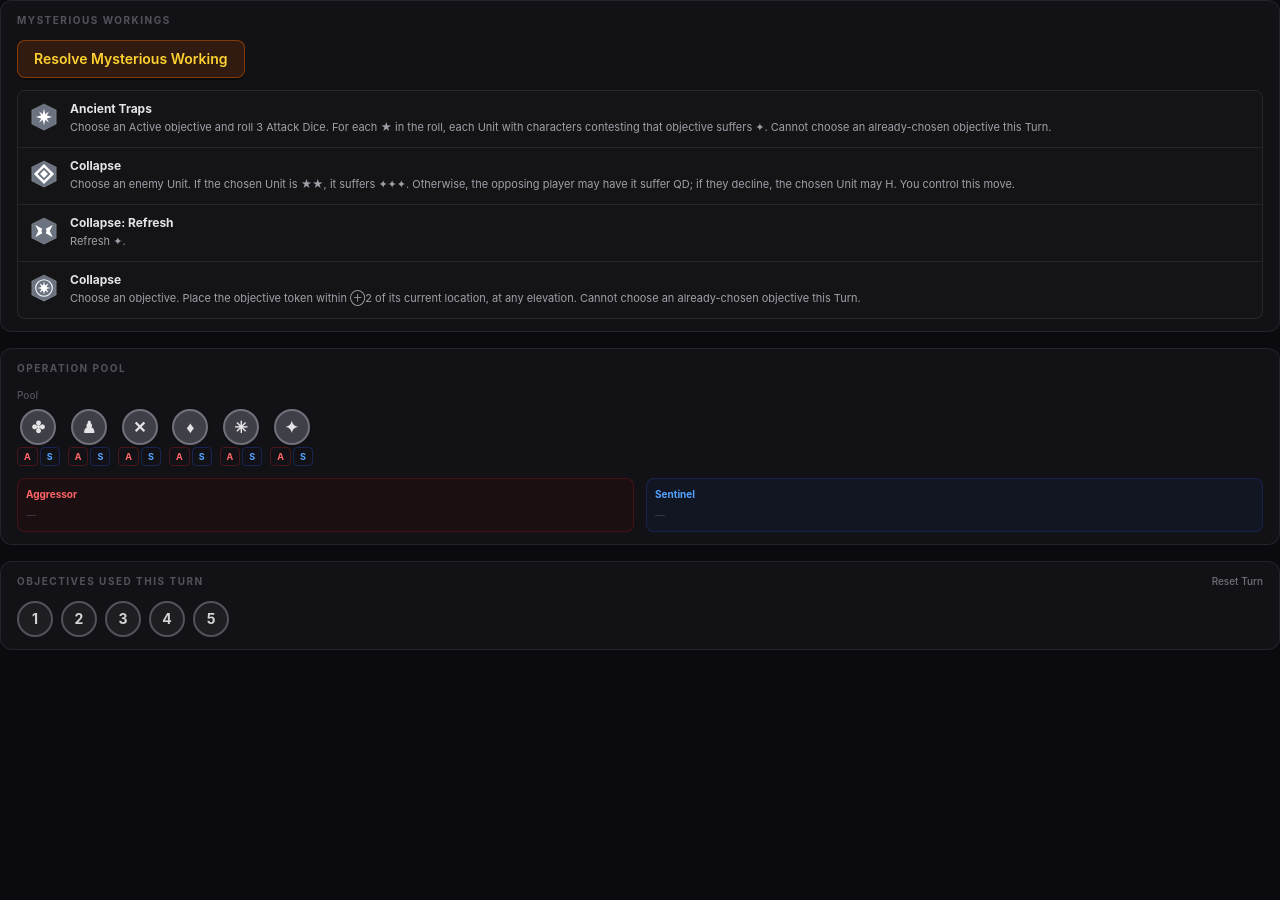
Test: ExploreTheRuins › tapping an objective pill marks it as used
Click the button "1".
click(35, 619)  # box [17, 601, 53, 637]
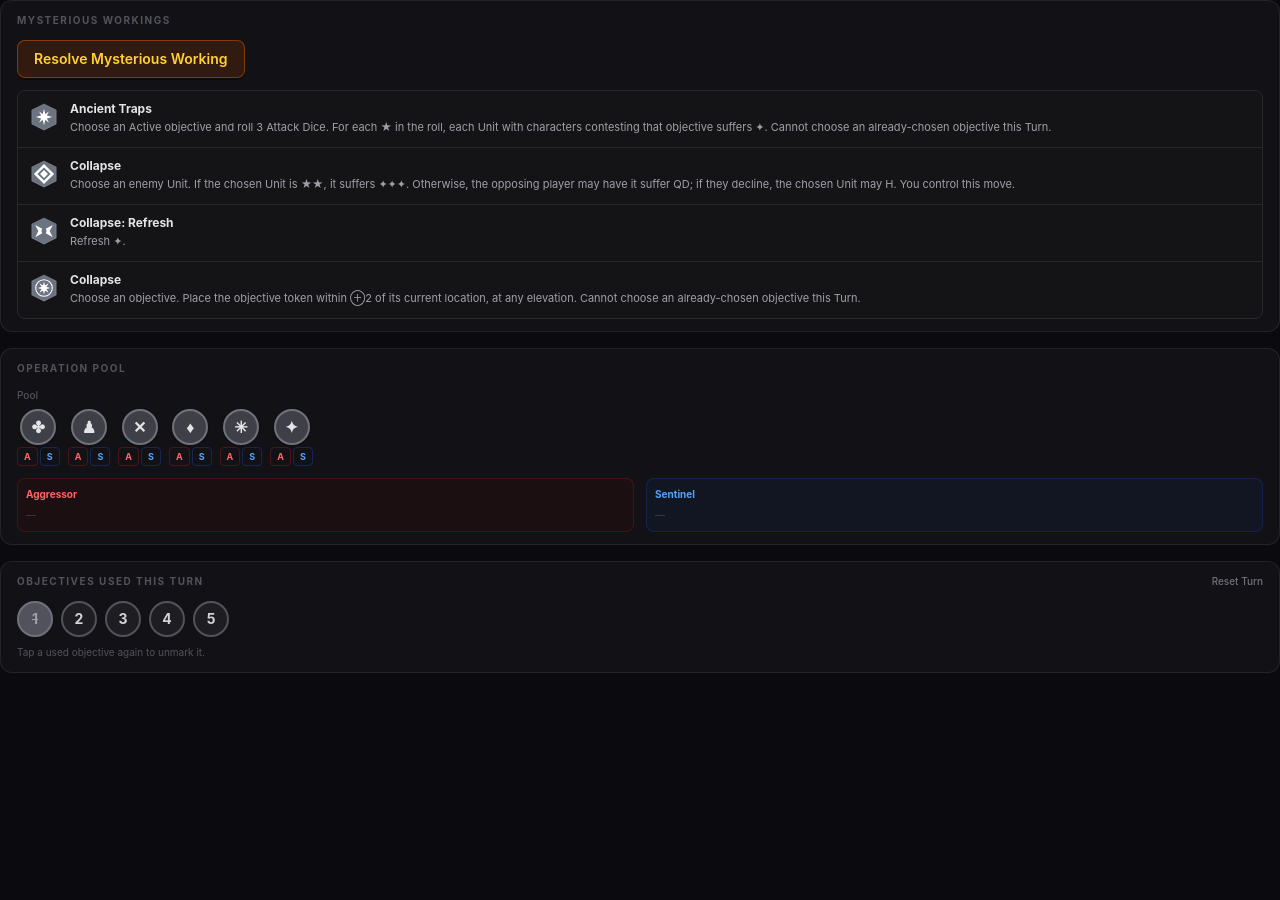
Check: the text "Tap a used objective again to unmark it." is shown, box [17, 646, 205, 658]
